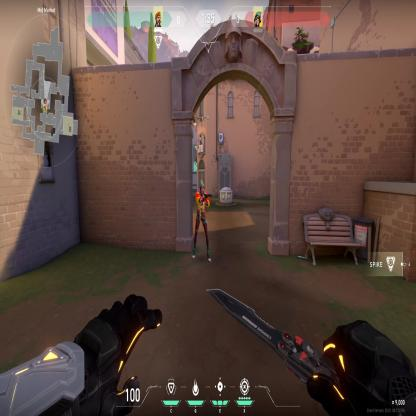enemy: (191, 178, 212, 264)
